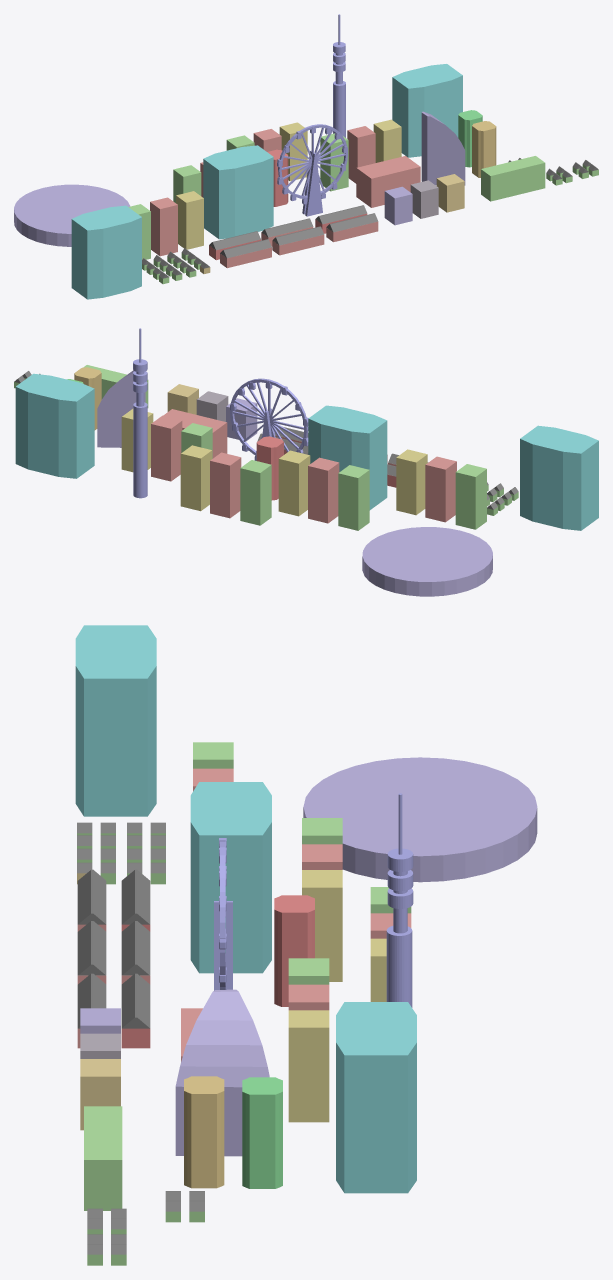
File: yokohama2.glb
3 renders of one model, top to bottom at view 1: azimuth 30°, elevation 25°; view 2: azimuth 150°, elevation 25°; view 3: azimuth 270°, elevation 25°, orthographic. The views are drawn at different scales.
Parts seen in each view (by area): view 1: Cube.020, Cube.003, Cube.021, 円柱.001, 円柱, 立方体.026, 立方体.035, Cube.002, Cube.018, Cube.017, 円柱.003, Cube.009 (+21 smaller); view 2: 円柱.001, Cube.021, Cube.020, Cube.003, 円柱, 円柱.003, 立方体.026, Cube.013, Cube.014, Cube.019, Cube.015, Cube.018 (+14 smaller); view 3: 円柱.001, Cube.020, Cube.021, Cube.003, 立方体.026, Cube.008, Cube.009, Cube.010, 円柱.003, 立方体.035, Cube, Cube.016 (+16 smaller).
Boxes of the visible parts, x1=… form: Cube.020: x1=71, y1=205, x2=141, y2=299; Cube.003: x1=203, y1=145, x2=273, y2=239; Cube.021: x1=392, y1=64, x2=462, y2=157; 円柱.001: x1=14, y1=184, x2=130, y2=246; 円柱: x1=277, y1=124, x2=347, y2=216; 立方体.026: x1=421, y1=111, x2=465, y2=185; 立方体.035: x1=481, y1=156, x2=545, y2=201; Cube.002: x1=356, y1=156, x2=420, y2=207; Cube.018: x1=150, y1=197, x2=177, y2=256; Cube.017: x1=176, y1=191, x2=203, y2=249; 円柱.003: x1=333, y1=14, x2=345, y2=137; Cube.009: x1=472, y1=121, x2=496, y2=177; 円柱.001: x1=362, y1=527, x2=492, y2=596; Cube.021: x1=15, y1=373, x2=94, y2=478; Cube.020: x1=520, y1=425, x2=598, y2=530; Cube.003: x1=308, y1=405, x2=387, y2=510; 円柱: x1=230, y1=378, x2=308, y2=460; 円柱.003: x1=133, y1=328, x2=147, y2=498; 立方体.026: x1=97, y1=370, x2=145, y2=447; Cube.013: x1=240, y1=460, x2=271, y2=525; Cube.014: x1=338, y1=465, x2=369, y2=530; Cube.019: x1=455, y1=464, x2=486, y2=529; Cube.015: x1=308, y1=457, x2=339, y2=523; Cube.018: x1=425, y1=456, x2=456, y2=522; 円柱.001: x1=303, y1=757, x2=537, y2=882; Cube.020: x1=75, y1=625, x2=156, y2=816; Cube.021: x1=336, y1=1002, x2=416, y2=1193; Cube.003: x1=190, y1=782, x2=271, y2=973; 立方体.026: x1=175, y1=989, x2=269, y2=1156; Cube.008: x1=288, y1=1010, x2=329, y2=1122; Cube.009: x1=184, y1=1076, x2=224, y2=1188; Cube.010: x1=242, y1=1077, x2=282, y2=1188; 円柱.003: x1=386, y1=793, x2=413, y2=1007; 立方体.035: x1=84, y1=1106, x2=122, y2=1210; Cube: x1=274, y1=895, x2=314, y2=1006; Cube.016: x1=302, y1=870, x2=342, y2=981.
Size of the model in its own units: 82.59 by 22.94 by 32.24.
